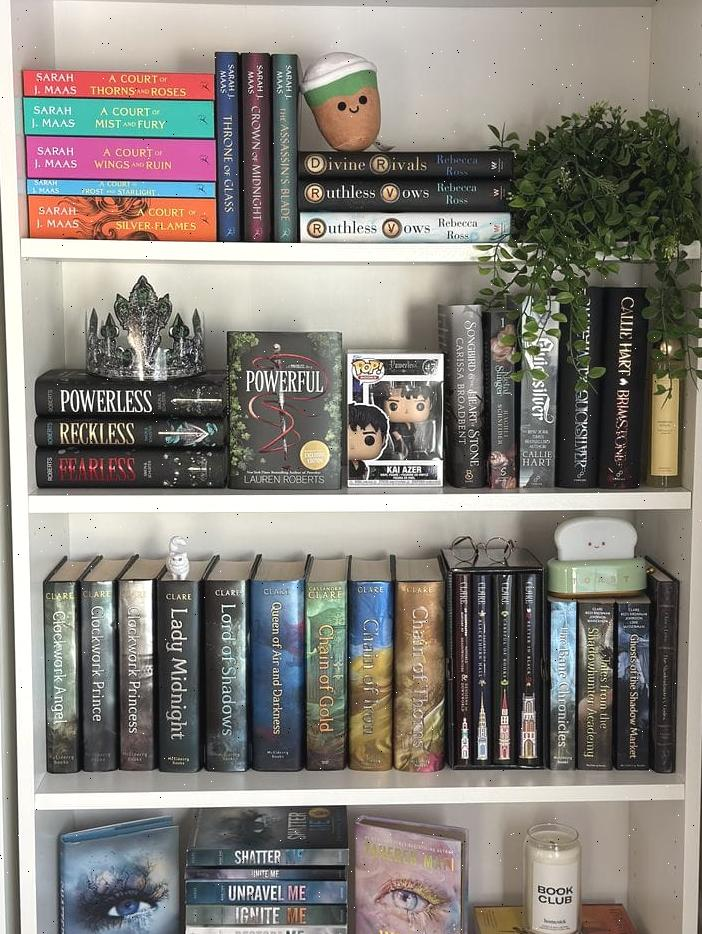book: (347, 351, 443, 487), (249, 564, 304, 776), (115, 555, 165, 775), (394, 558, 444, 775), (346, 556, 394, 777), (204, 559, 252, 776), (157, 559, 204, 777), (303, 558, 347, 774), (599, 288, 646, 488), (79, 558, 121, 776), (186, 806, 343, 863), (37, 370, 227, 417), (42, 558, 82, 778), (38, 445, 225, 489), (28, 195, 218, 238), (439, 303, 482, 490), (518, 296, 559, 489), (27, 140, 216, 179), (24, 101, 214, 139), (297, 178, 509, 211), (648, 556, 679, 775), (299, 211, 509, 243), (615, 597, 651, 776), (557, 288, 589, 486), (36, 415, 222, 449), (577, 599, 613, 773), (486, 304, 518, 488), (23, 70, 215, 100), (297, 151, 510, 178), (516, 566, 542, 769), (242, 54, 270, 241), (272, 55, 300, 241), (215, 50, 240, 242), (492, 570, 515, 769), (548, 597, 574, 773), (188, 879, 344, 904), (453, 569, 472, 768), (29, 180, 217, 200), (473, 570, 491, 769), (186, 904, 344, 926), (186, 921, 345, 934)
